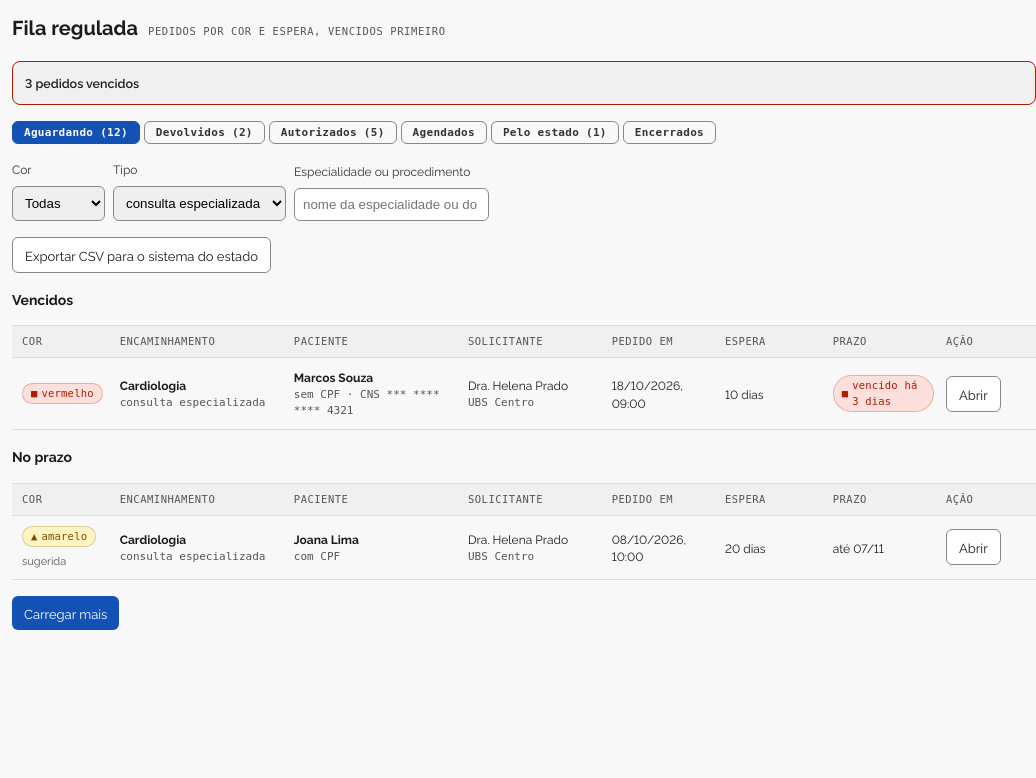
Test: RegulationQueue › decidir volta à fila com a frase, relê UMA vez a primeira página (sem before) e a contagem
Expected: the element "Vencidos" is shown, [12,288,1035,430]
Click the button "Carregar mais": click(66, 613) [12,596,119,630]
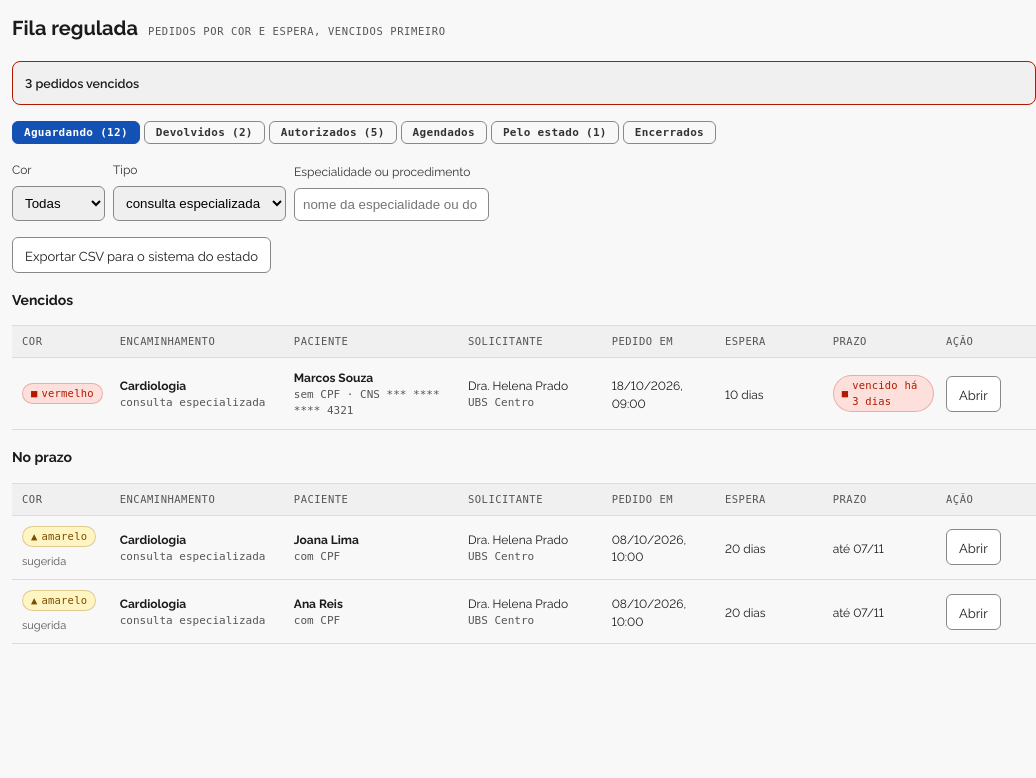
Now the row "Ana Reis" is shown, box [12,580,1035,644]
Click the button with aria-label "Abrir pedido de Cardiologia": click(973, 547) [946,529,1001,565]
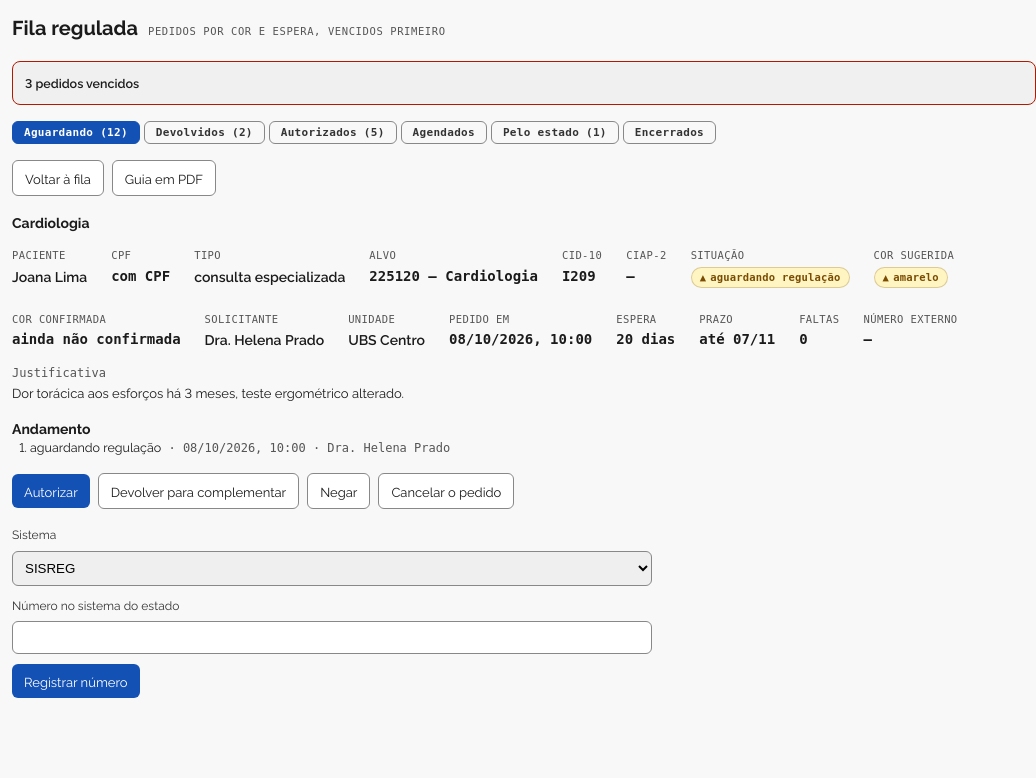
Click the button "Devolver para complementar": click(198, 491) [98,473,299,509]
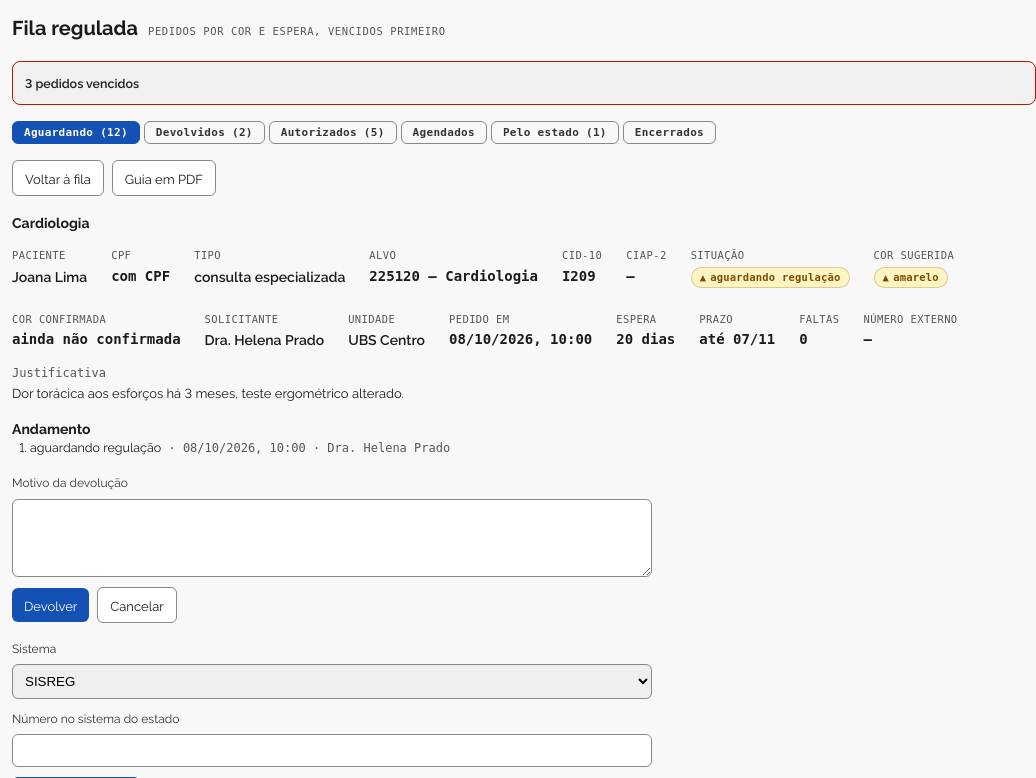
In the text box labelled "Motivo da devolução": (332, 538) [12,499,652,577], type "Falta o resultado do teste ergométrico"
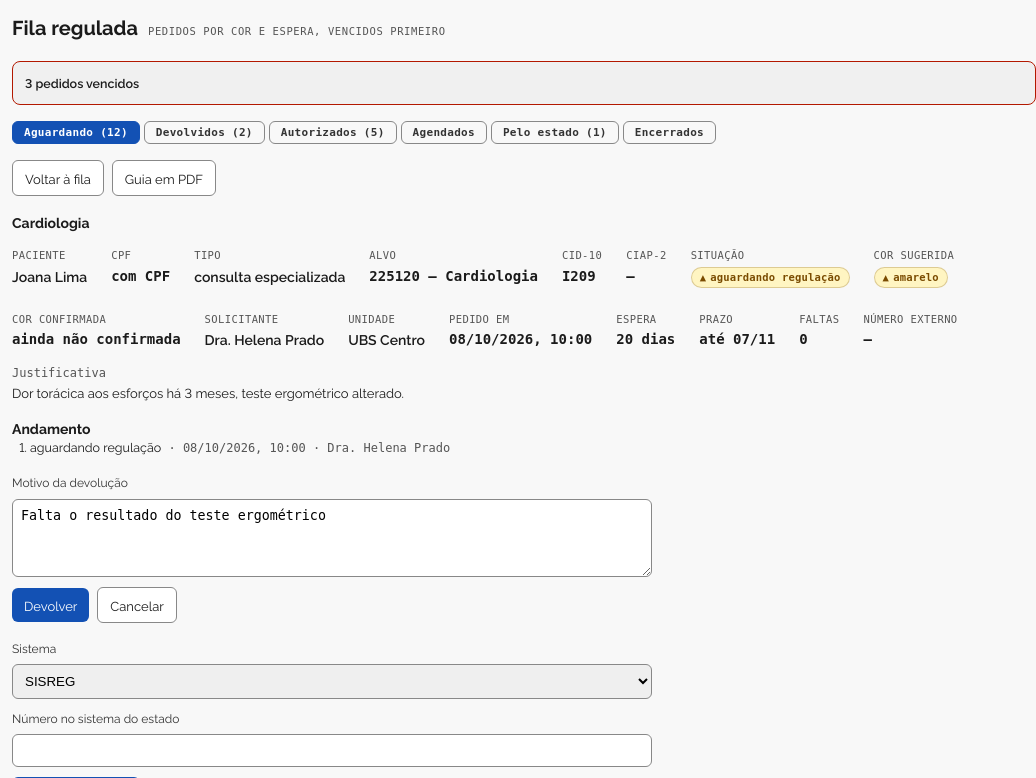
Click the button "Devolver": click(51, 605) [12,588,89,622]
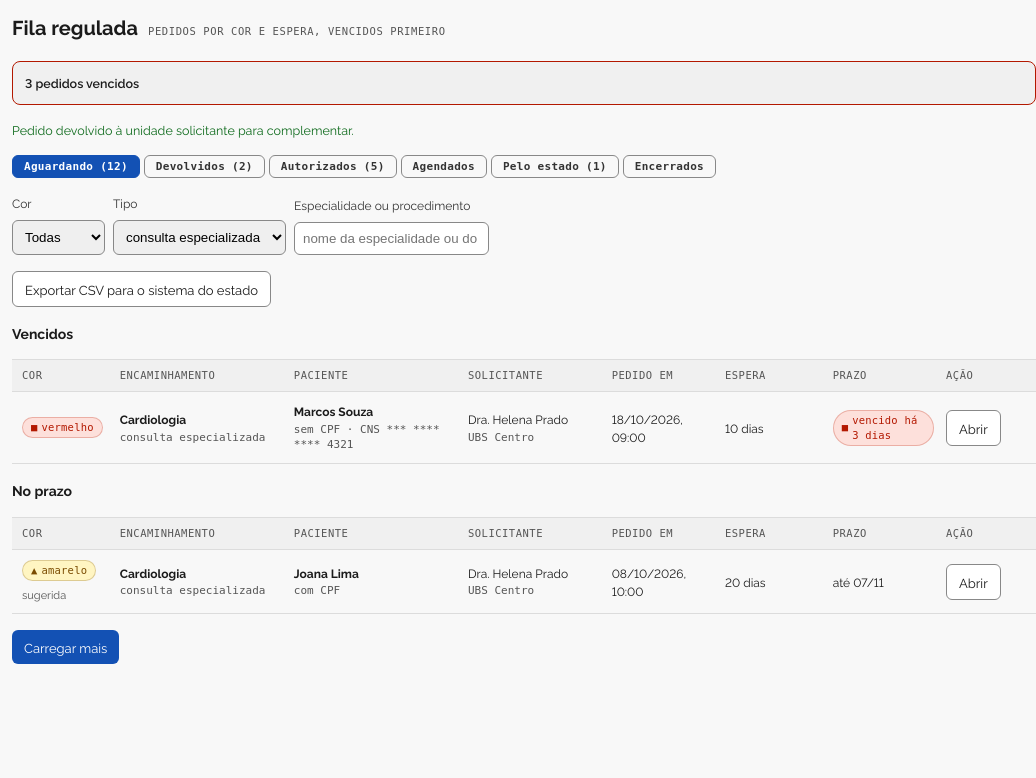
Now the element "No prazo" is shown, box [12,480,1035,614]
